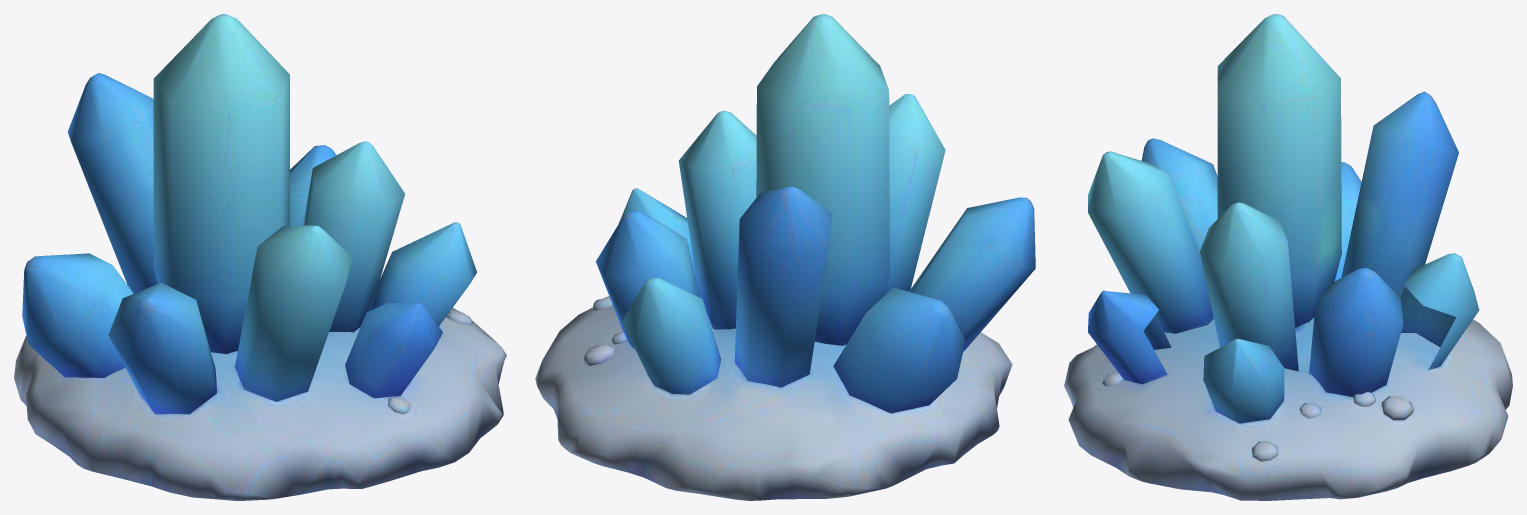
The model's file is crystal.glb.
The picture shows the model from 3 angles, left to right: view 1: azimuth 30°, elevation 25°; view 2: azimuth 150°, elevation 25°; view 3: azimuth 270°, elevation 25°; orthographic projection. The views are drawn at different scales.
Visible parts, largest first — view 1: tripo_node_ce1d725a-74e5-4f13-8ec8-f985cdd0c71f; view 2: tripo_node_ce1d725a-74e5-4f13-8ec8-f985cdd0c71f; view 3: tripo_node_ce1d725a-74e5-4f13-8ec8-f985cdd0c71f.
Part boxes in pixels (left/top/right/bottom): tripo_node_ce1d725a-74e5-4f13-8ec8-f985cdd0c71f: left=14, top=14, right=506, bottom=500; tripo_node_ce1d725a-74e5-4f13-8ec8-f985cdd0c71f: left=535, top=14, right=1035, bottom=500; tripo_node_ce1d725a-74e5-4f13-8ec8-f985cdd0c71f: left=1064, top=14, right=1512, bottom=500.
Size of the model in its own units: 0.998 by 0.916 by 0.9941.
Materials: 1 (1 with a texture image).
